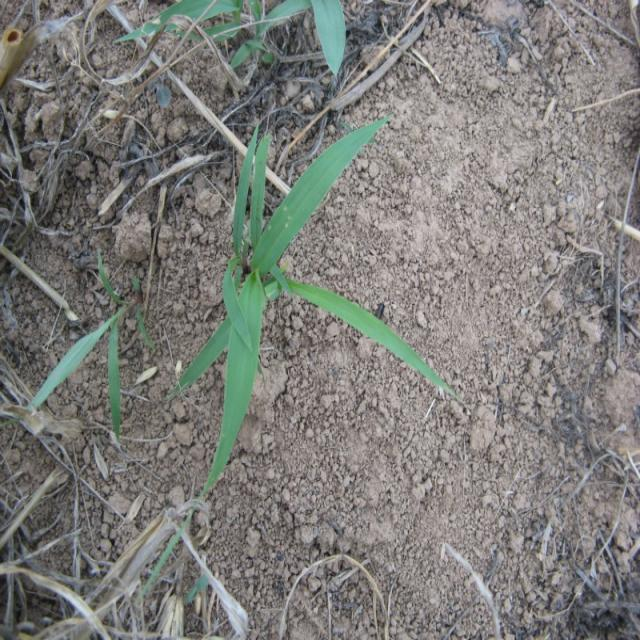bg: (182, 120, 466, 487)
